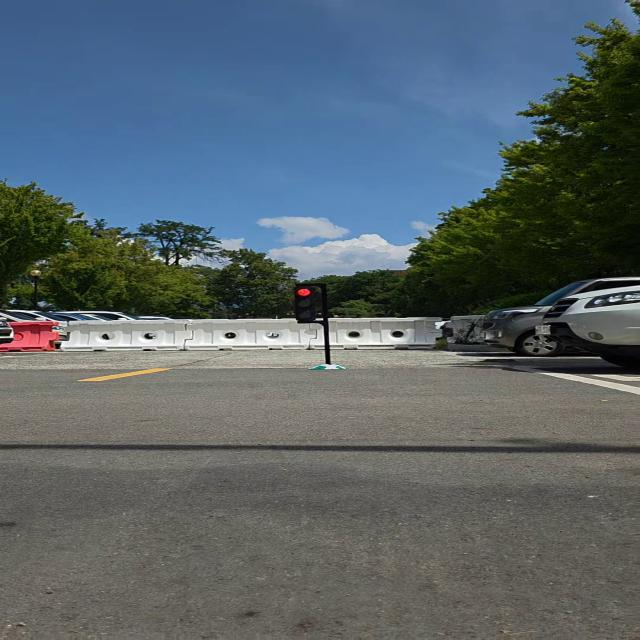red: (292, 284, 319, 324)
